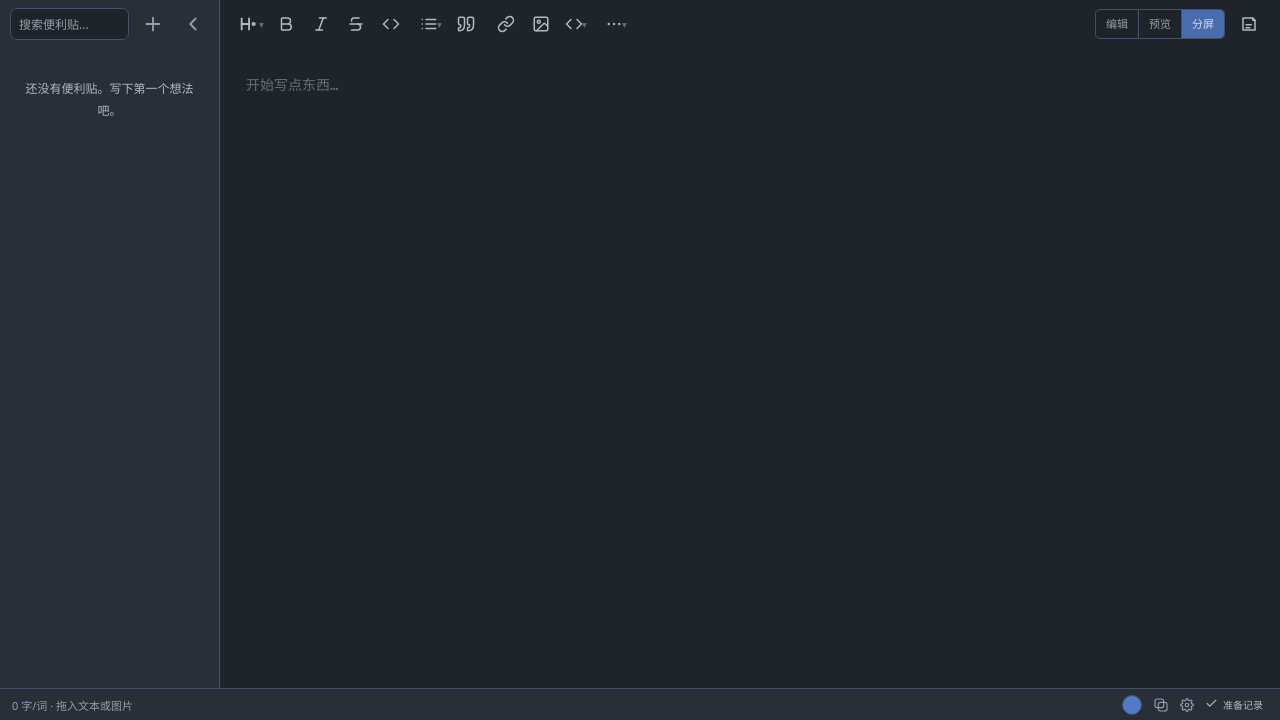
Test: the main Split view routes native drop events into the existing note and local preview
Type "before SELECT after" into the text box with placeholder "开始写点东西…" at (485, 368), box x1=220 y1=48 x2=750 y2=688
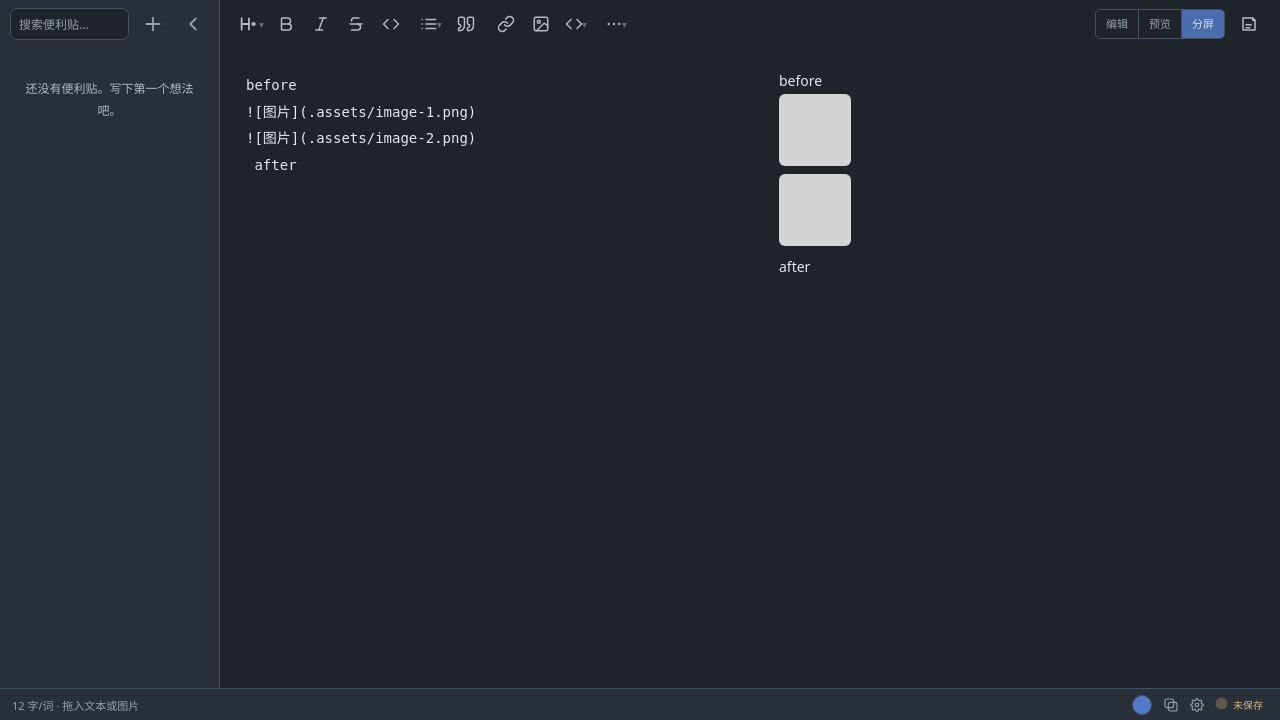
Click the button "预览" at (1160, 24), box x1=1139 y1=10 x2=1182 y2=38
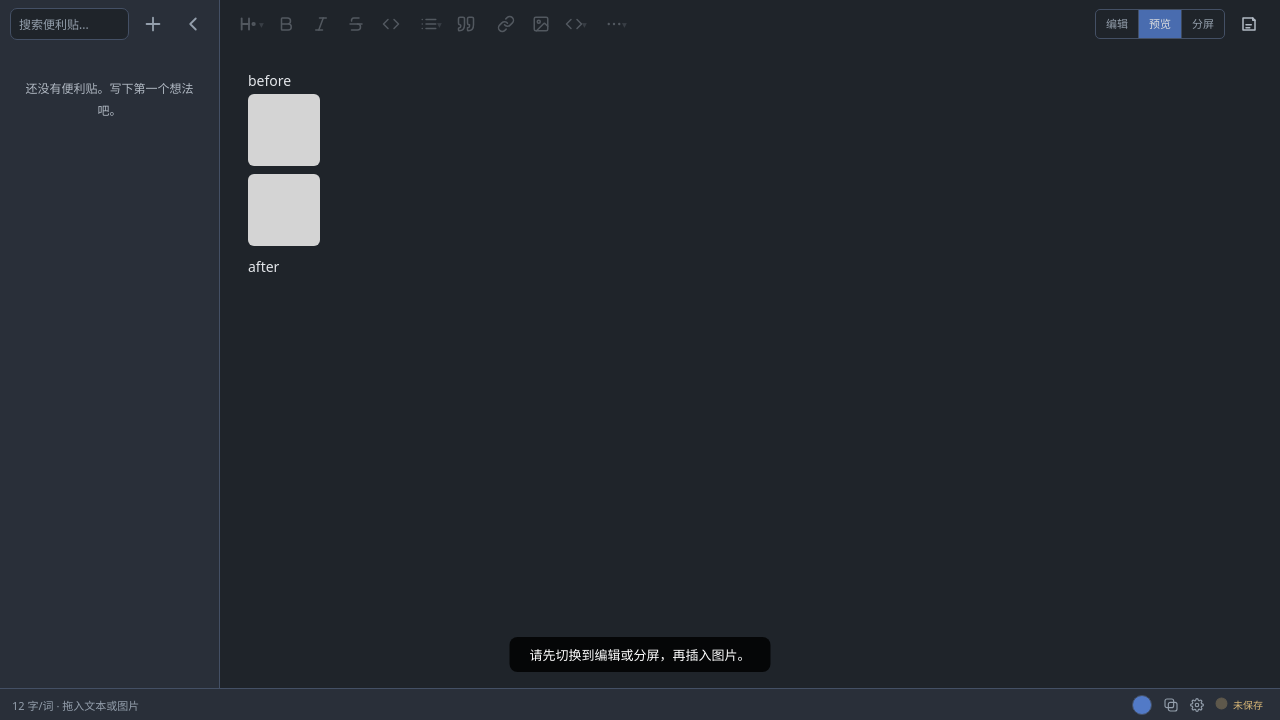
Now the text "请先切换到编辑或分屏，再插入图片。" is shown, box x1=510 y1=637 x2=770 y2=672
